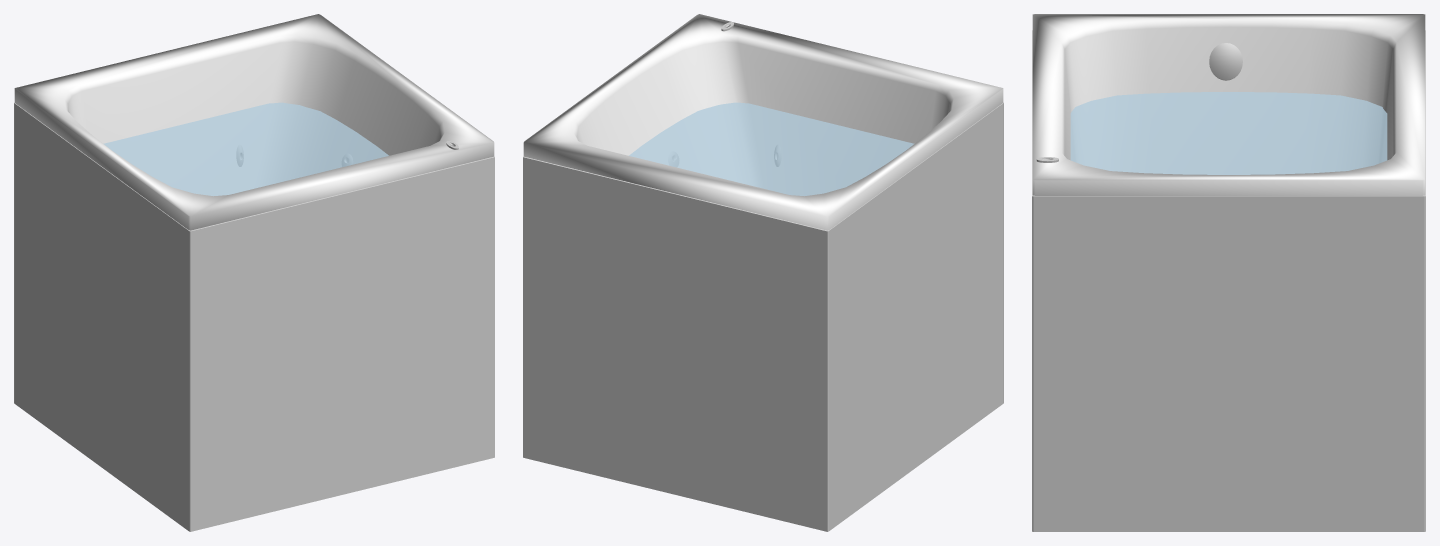
File: sh-contrib-bathtub-jet-system.glb
3 views of the same model, side by side, from view 1: azimuth 30°, elevation 25°; view 2: azimuth 150°, elevation 25°; view 3: azimuth 270°, elevation 25° (orthographic). The views are drawn at different scales.
Visible parts, largest first — view 1: 8_8, 1_1, 7_7; view 2: 8_8, 1_1, 7_7; view 3: 8_8, 1_1, 7_7, 9_9.
Part boxes in pixels (<box>): 8_8: <box>14,102,494,531</box>; 1_1: <box>14,14,494,230</box>; 7_7: <box>103,102,388,196</box>; 8_8: <box>523,102,1003,531</box>; 1_1: <box>523,14,1003,230</box>; 7_7: <box>629,102,914,196</box>; 8_8: <box>1032,30,1425,531</box>; 1_1: <box>1032,14,1425,195</box>; 7_7: <box>1070,92,1387,174</box>; 9_9: <box>1209,43,1242,80</box>.
Bounding box in the file's own units: 1 × 1 × 1.
